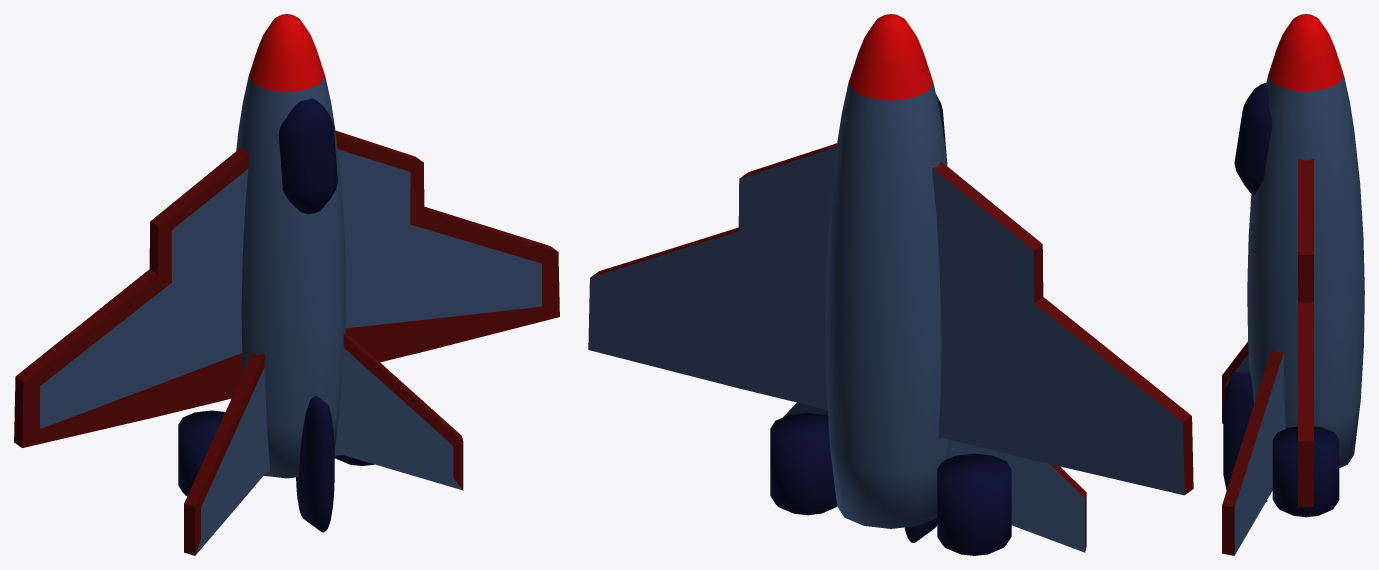
File: spacejet.fbx
3 views of the same model, side by side, from view 1: azimuth 30°, elevation 25°; view 2: azimuth 150°, elevation 25°; view 3: azimuth 270°, elevation 25° (orthographic). The views are drawn at different scales.
Parts seen in each view (by area): view 1: Cylinder.002; view 2: Cylinder.002; view 3: Cylinder.002.
Boxes of the visible parts, <box> form: Cylinder.002: <box>14,14,559,555</box>; Cylinder.002: <box>588,14,1193,555</box>; Cylinder.002: <box>1222,14,1364,555</box>.
Bounding box in the file's own units: 3.82 × 3.32 × 0.8843.
